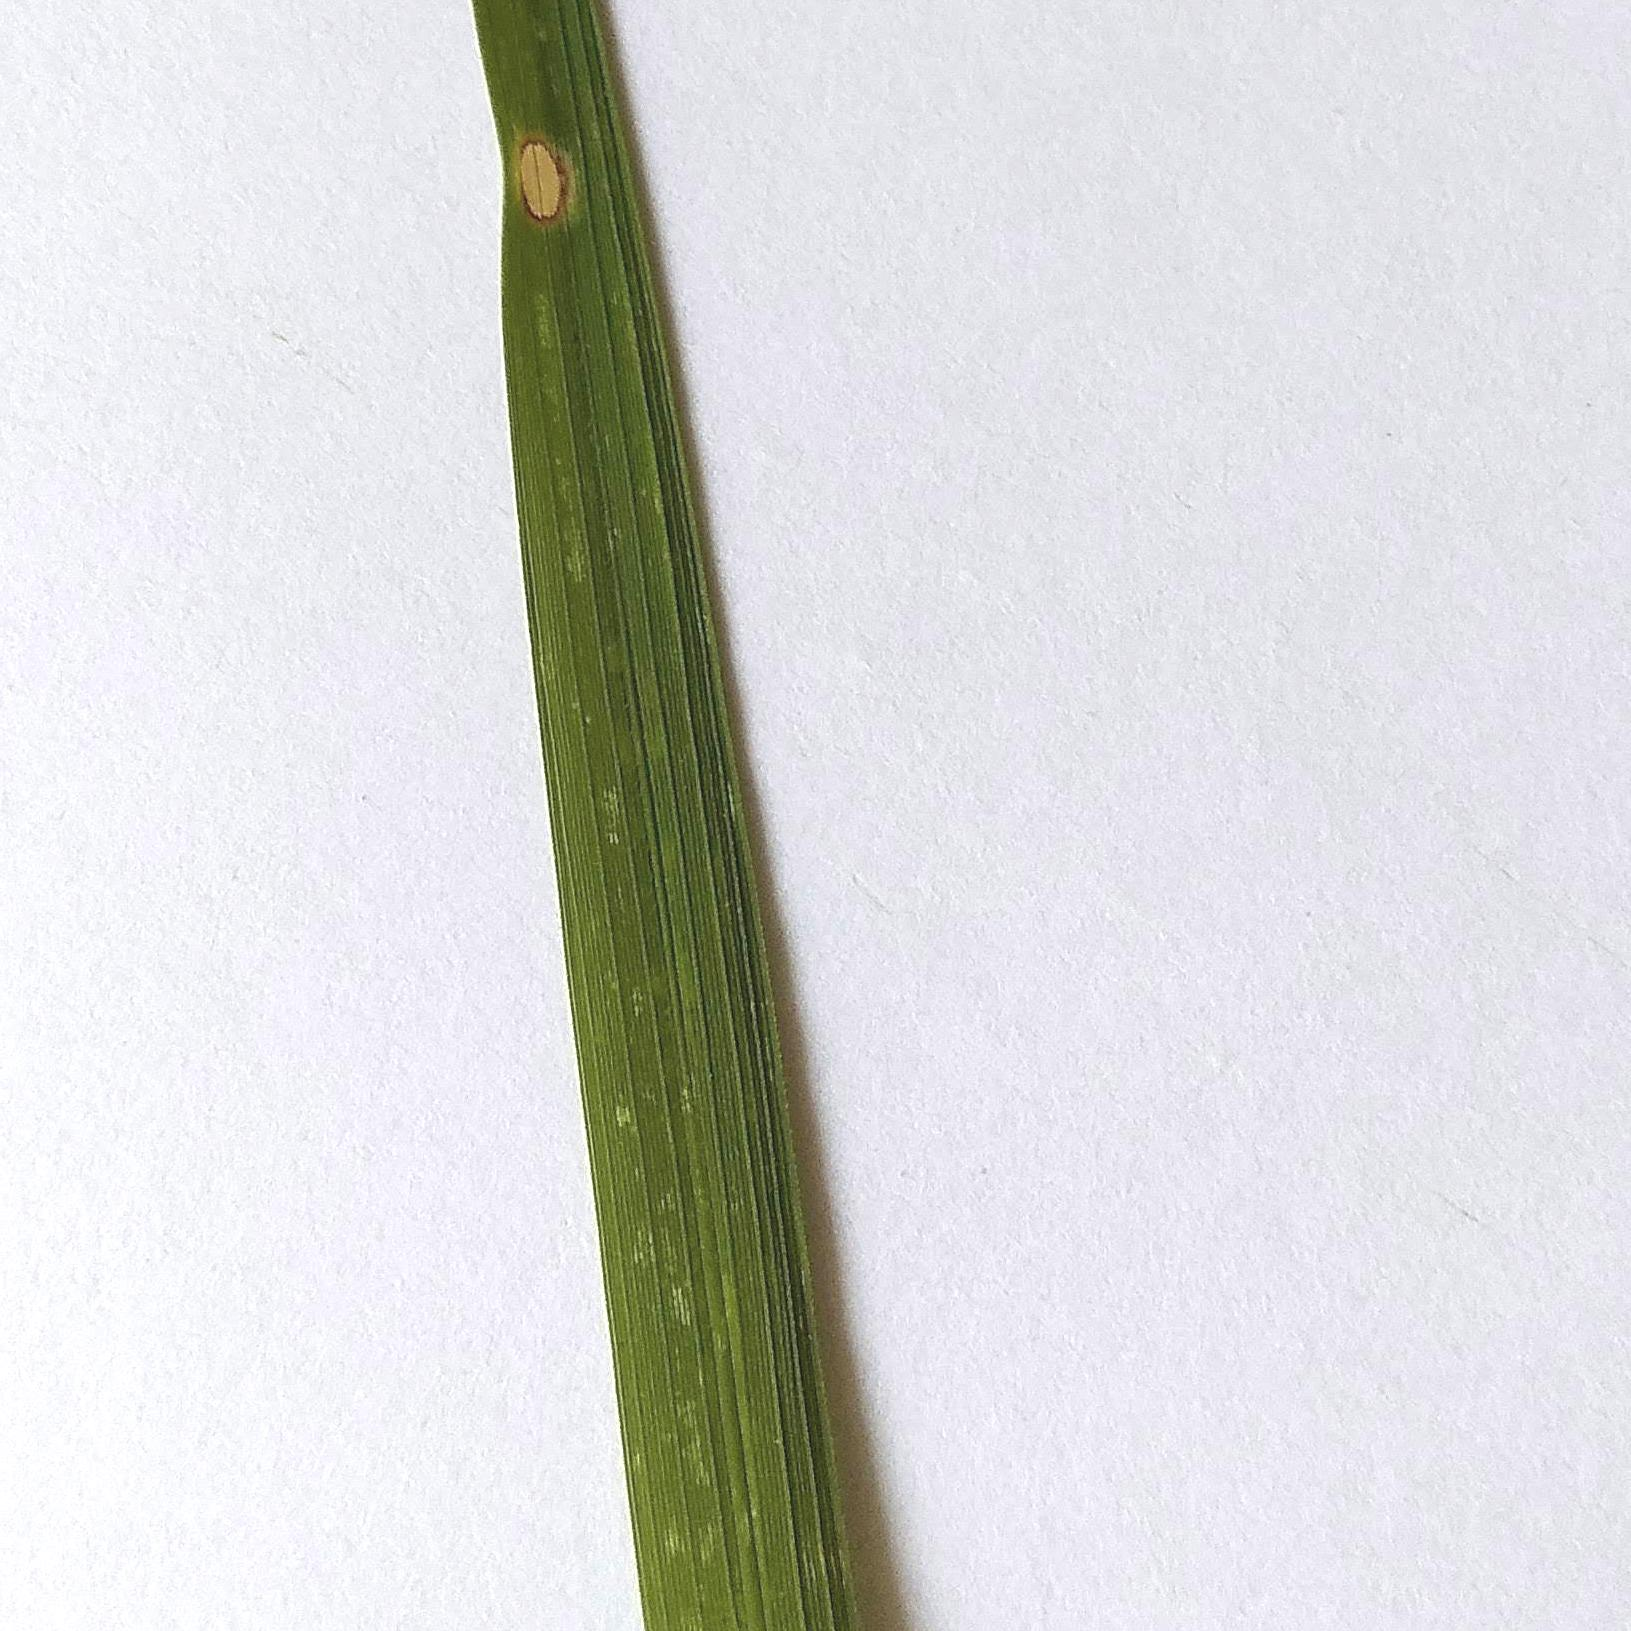1 RiceBlast: (479, 94, 581, 230)
